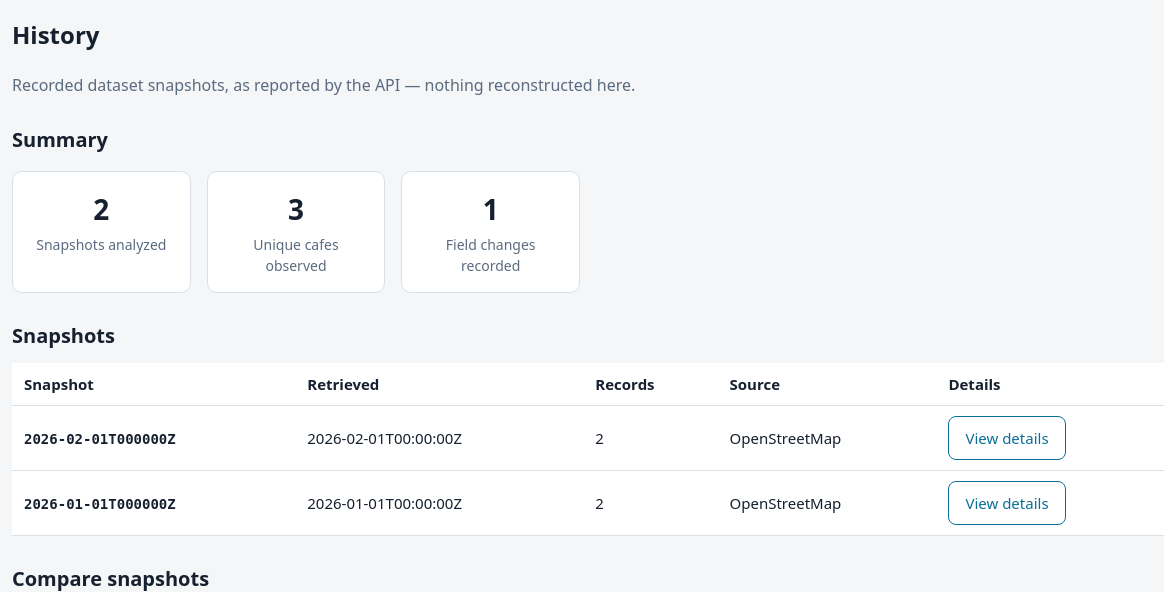
Test case: HistoryPage › loads snapshot details on selection
The width and height of the screenshot is (1164, 592).
Expected: the text "2026-02-01T000000Z" is shown, left=24, top=431, right=176, bottom=447
Click the button "View details" in the row of "2026-02-01T000000Z" at (1007, 438), box left=948, top=416, right=1066, bottom=460
(page scrolled)
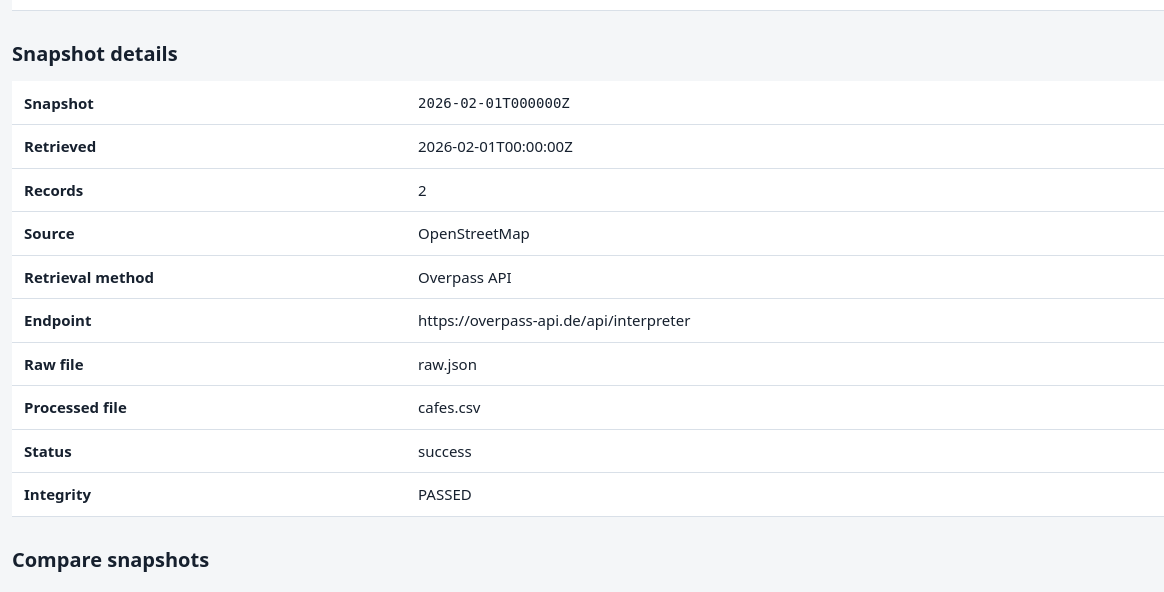
Result: the column heading "Retrieval method" is shown at left=12, top=255, right=406, bottom=299
Result: the text "PASSED" is shown at left=406, top=473, right=1163, bottom=516
